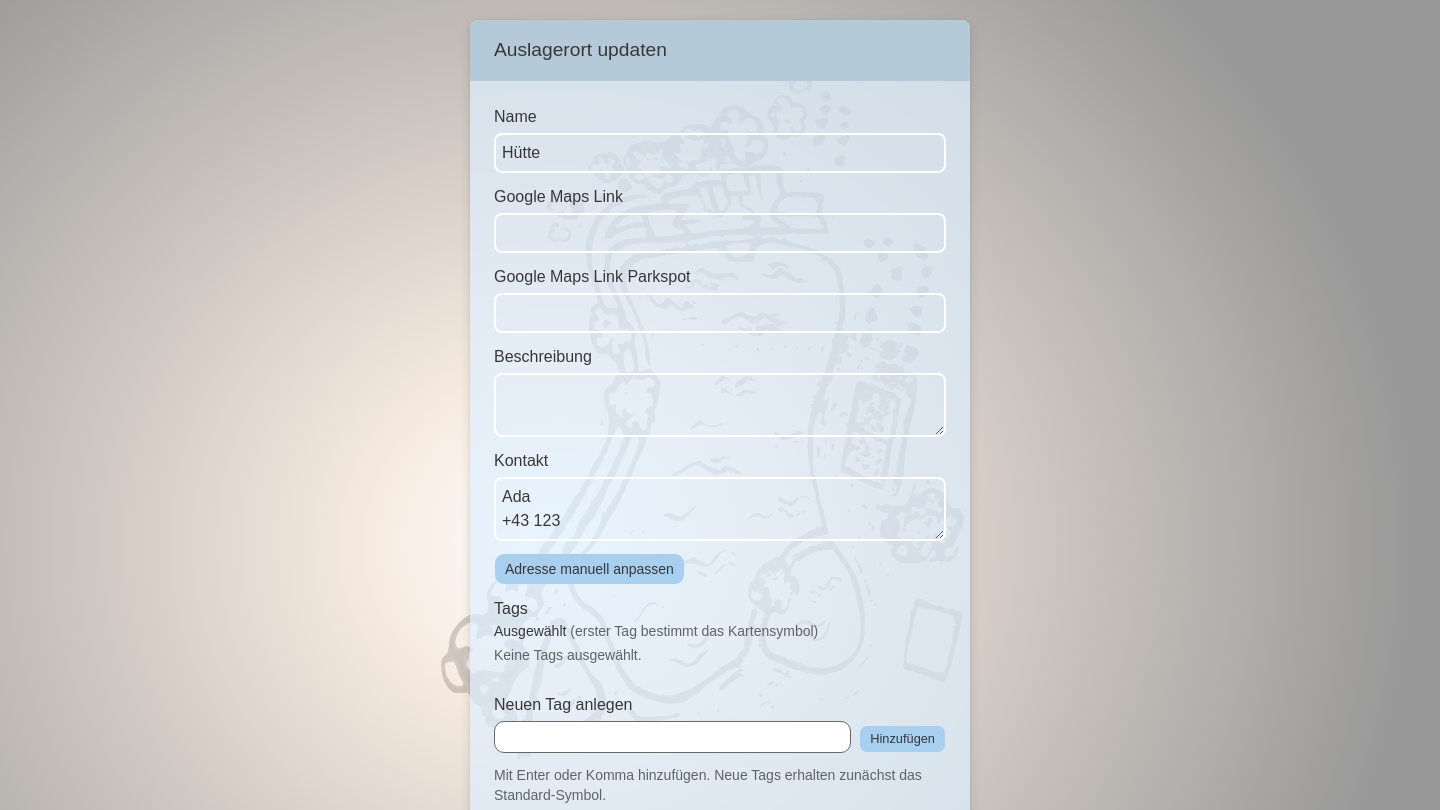
Auslagerorte workflows › reveals initialized address fields only on request when editing a place
Expected: the field labelled "Straße" is not shown
Click the button "Adresse manuell anpassen": x=589, y=569 x1=494 y1=553 x2=685 y2=585
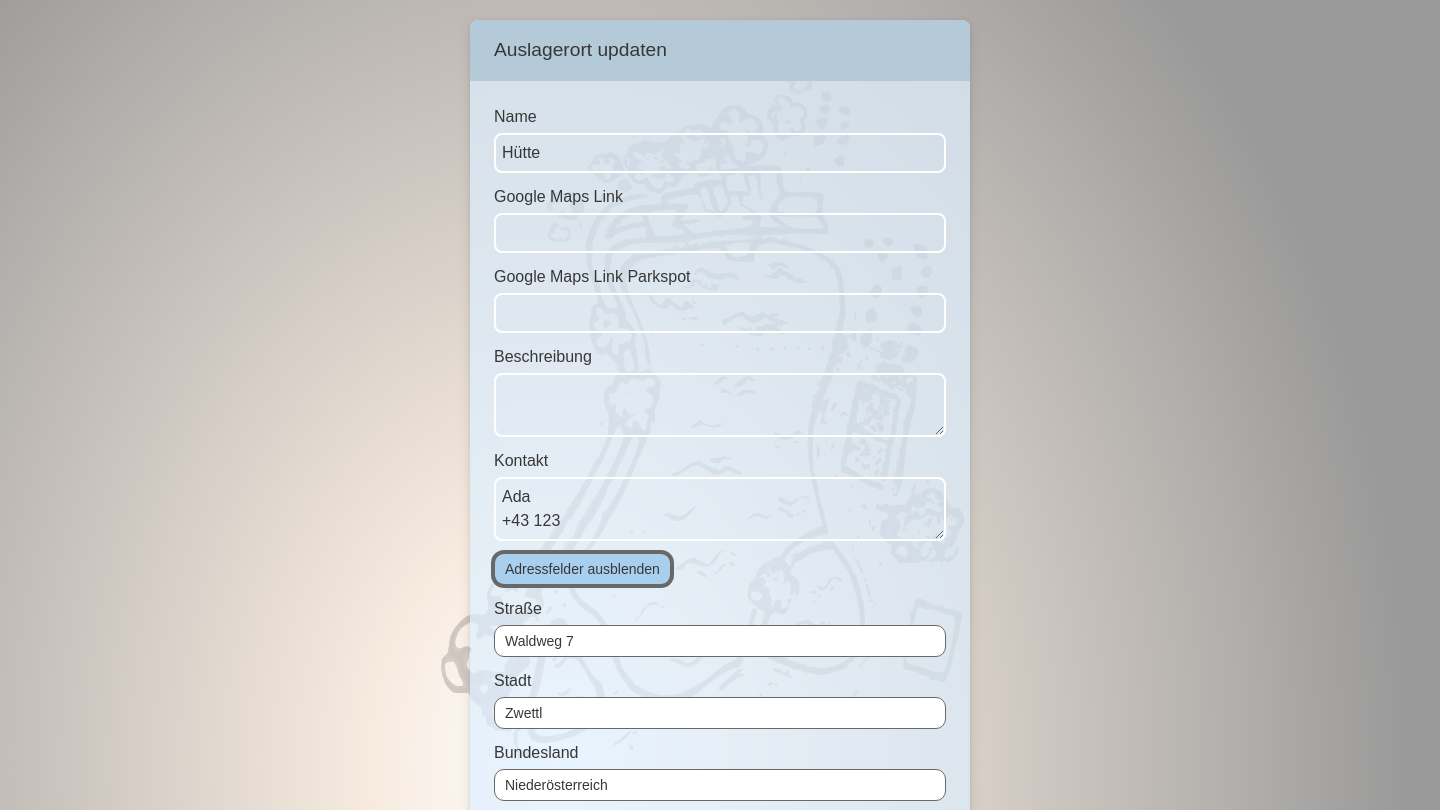
Now the field labelled "Straße" holds "Waldweg 7", box x1=494 y1=625 x2=946 y2=657
Now the field labelled "Stadt" holds "Zwettl", box x1=494 y1=697 x2=946 y2=729
Now the field labelled "Bundesland" holds "Niederösterreich", box x1=494 y1=769 x2=946 y2=801
